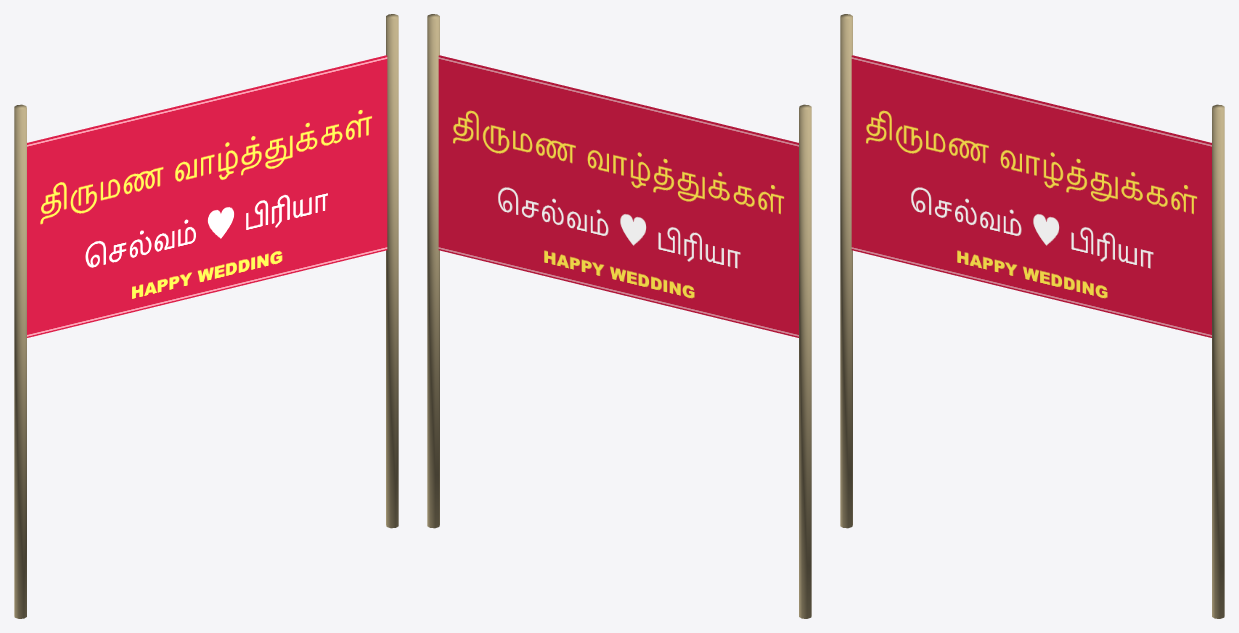
File: life_flex2.glb
The picture shows the model from 3 angles, left to right: view 1: azimuth 30°, elevation 25°; view 2: azimuth 150°, elevation 25°; view 3: azimuth 330°, elevation 25°; orthographic projection.
Parts seen in each view (by area): view 1: Pole; view 2: Pole; view 3: Pole.
Boxes of the visible parts, bbox=[...] form: Pole: bbox=[14, 14, 398, 618]; Pole: bbox=[427, 14, 811, 618]; Pole: bbox=[840, 14, 1224, 618].
Bounding box in the file's own units: 2.68 × 3.4 × 0.08.
2 materials, 1 textured.
